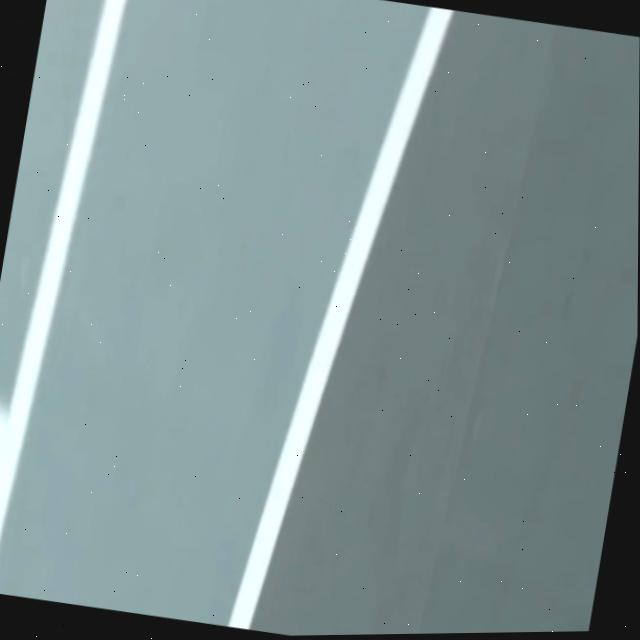left: (228, 7, 453, 630)
